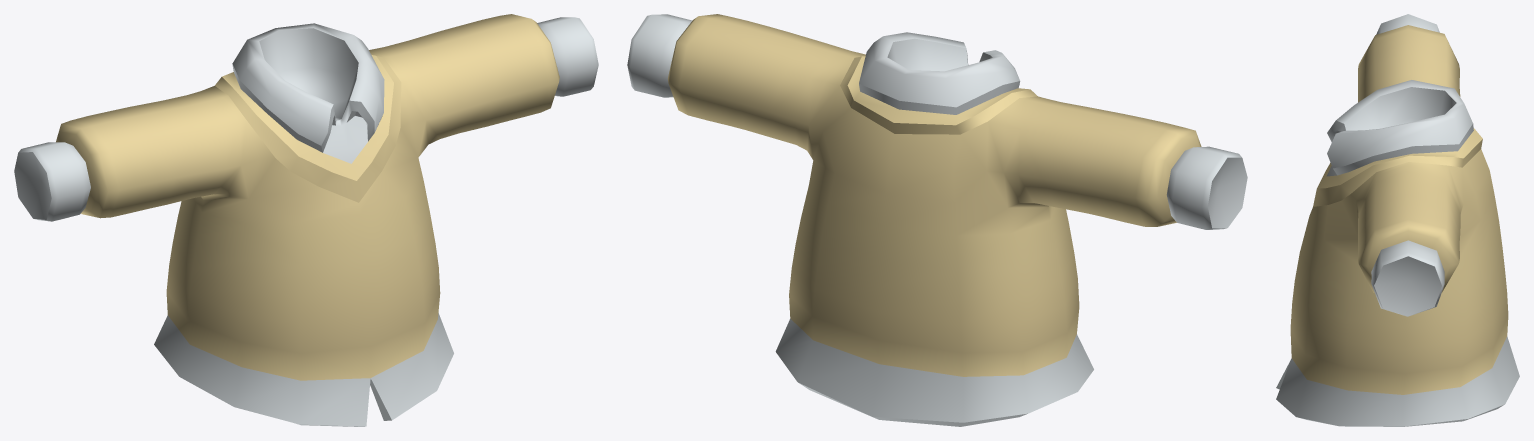
File: Top_38.fbx
The picture shows the model from 3 angles, left to right: view 1: azimuth 30°, elevation 25°; view 2: azimuth 150°, elevation 25°; view 3: azimuth 270°, elevation 25°; orthographic projection. The views are drawn at different scales.
Visible parts, largest first — view 1: Top_38; view 2: Top_38; view 3: Top_38.
Boxes of the visible parts, <box> form: Top_38: <box>14,14,598,426</box>; Top_38: <box>627,14,1247,426</box>; Top_38: <box>1276,14,1519,426</box>.
Size of the model in its own units: 94.82 by 54.29 by 40.36.
